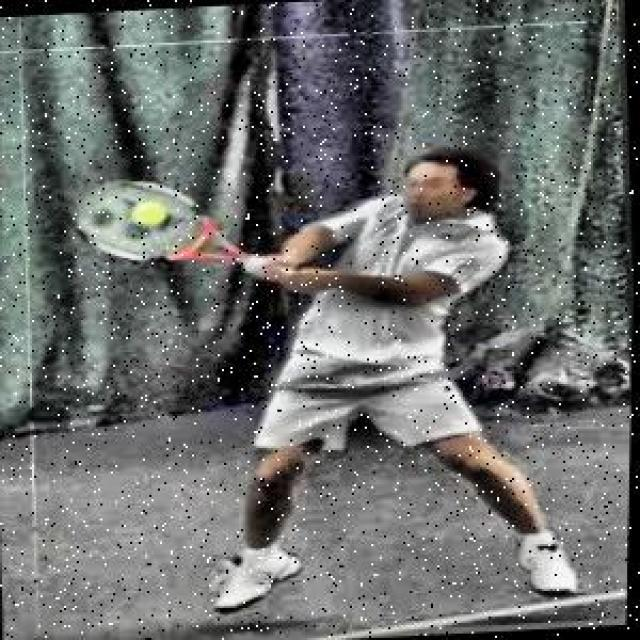tennis-ball: (136, 200, 166, 226)
